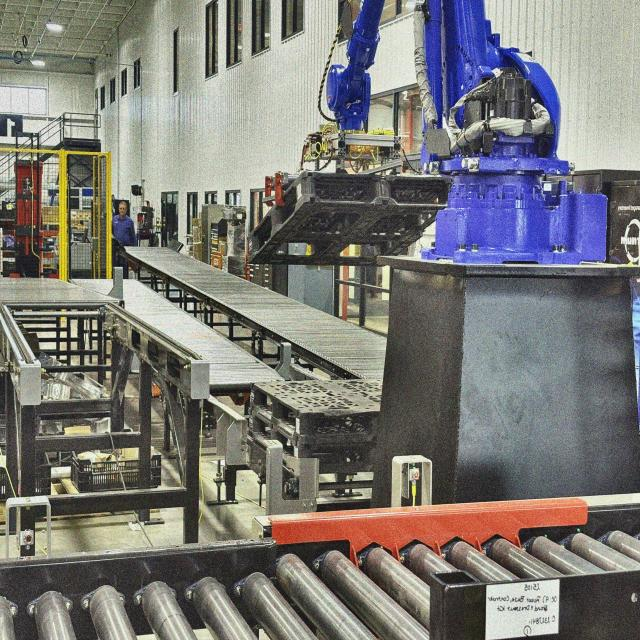igps: (239, 162, 457, 272), (246, 372, 387, 461)
